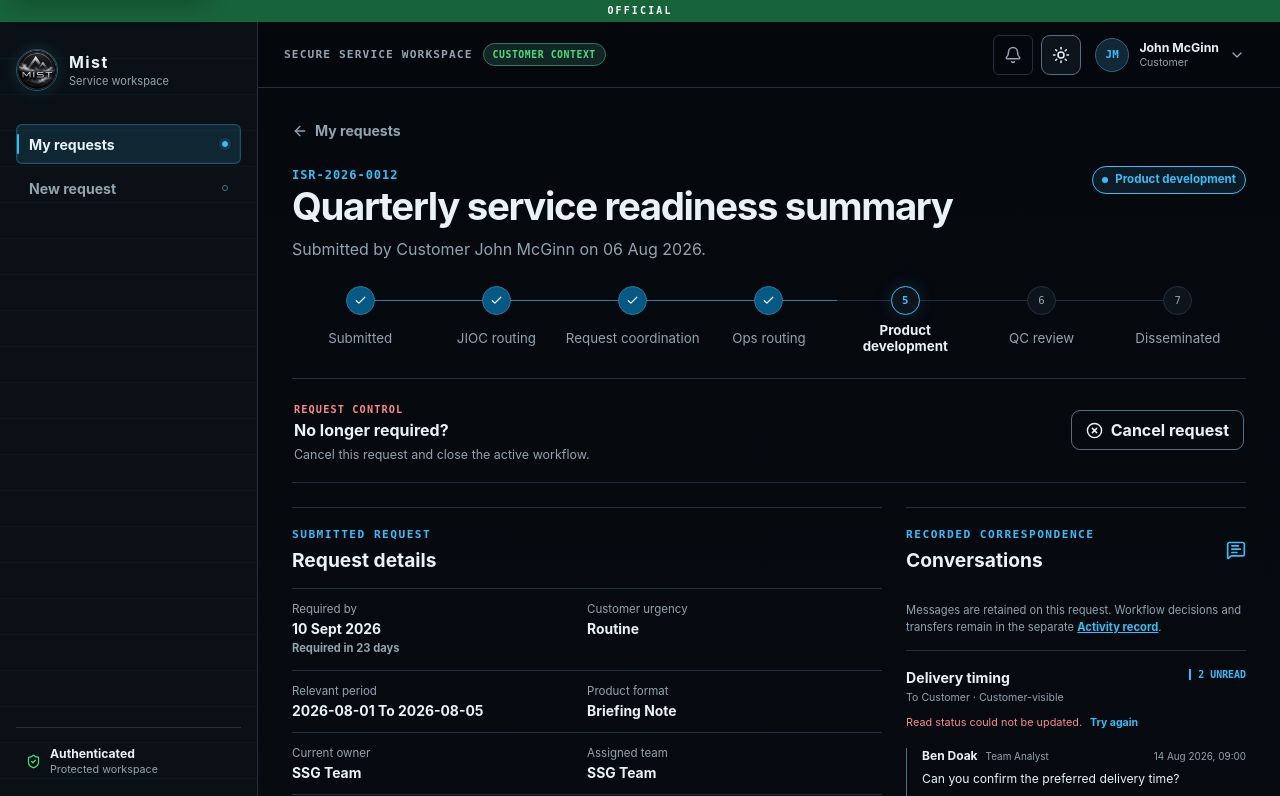
Scenario: structured request conversations › never renders an internal conversation to a Customer and records visible messages as read
Expected: the text "Can you confirm the preferred delivery time?" is shown, x1=922 y1=771 x2=1180 y2=786
Expected: the text "Read status could not be updated." is shown, x1=906 y1=715 x2=1082 y2=729
Click the button "Try again" at [1114, 722], box x1=1090 y1=712 x2=1138 y2=733
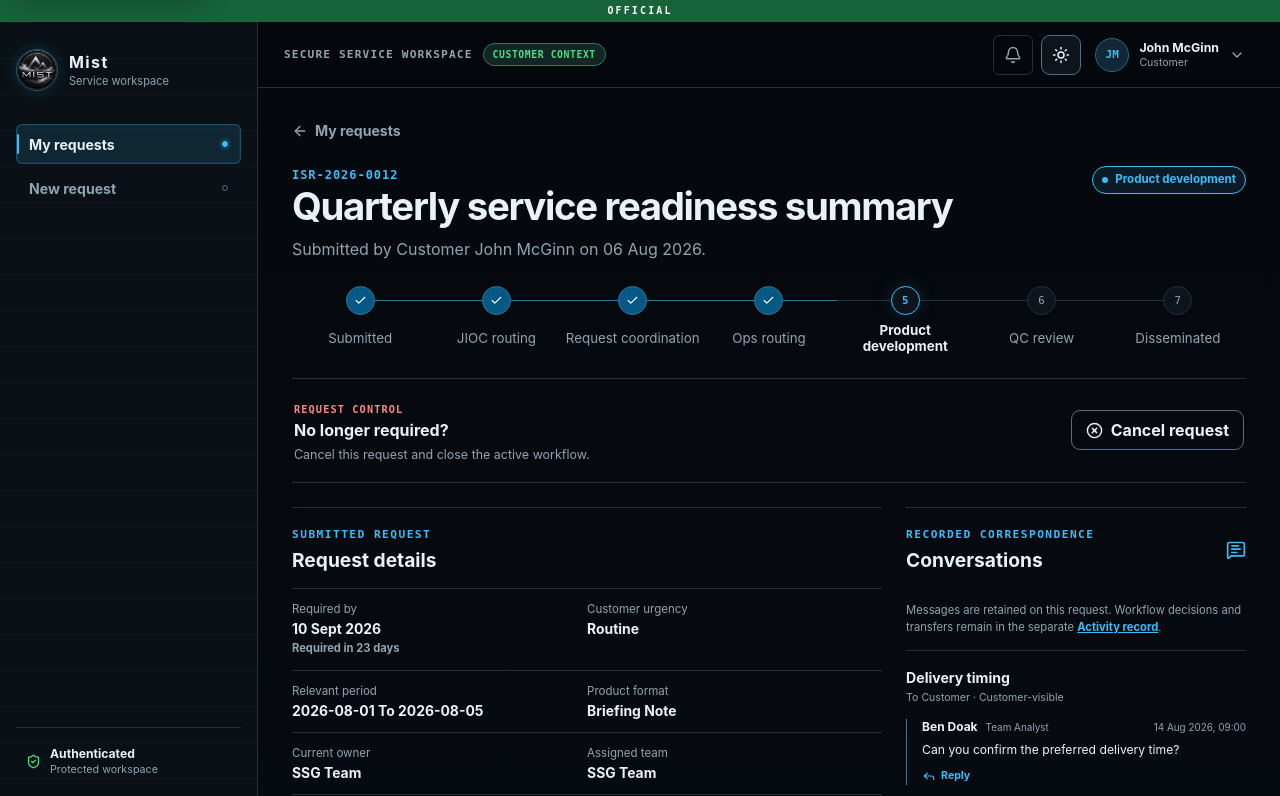
Expected: the text "2 unread" is gone
